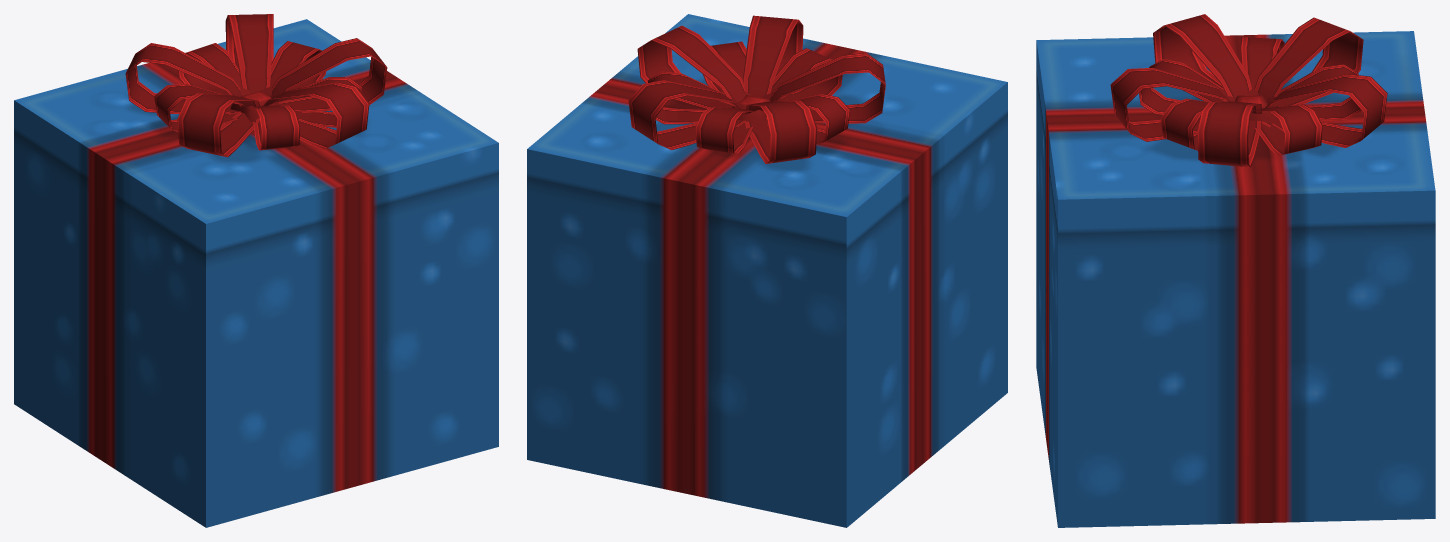
The model's file is Gift1.FBX.
The picture shows the model from 3 angles, left to right: view 1: azimuth 30°, elevation 25°; view 2: azimuth 150°, elevation 25°; view 3: azimuth 270°, elevation 25°; orthographic projection. The views are drawn at different scales.
Parts seen in each view (by area): view 1: Gift1; view 2: Gift1; view 3: Gift1.
Boxes of the visible parts, bbox=[...] form: Gift1: bbox=[14, 14, 498, 527]; Gift1: bbox=[527, 14, 1007, 527]; Gift1: bbox=[1036, 14, 1435, 527].
Size of the model in its own units: 12.66 by 13.47 by 12.66.
Materials: 1 (1 with a texture image).
